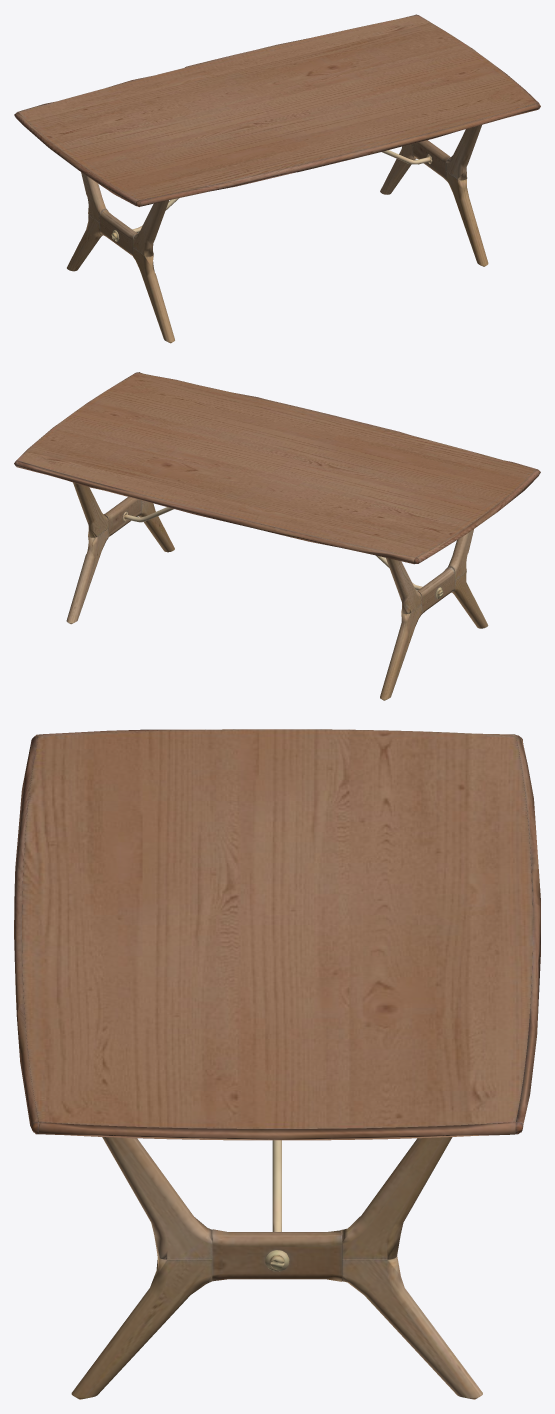
File: furniture_coffeeTable_a01.glb
3 views of the same model, one above another, from view 1: azimuth 30°, elevation 25°; view 2: azimuth 150°, elevation 25°; view 3: azimuth 270°, elevation 25° (orthographic). The views are drawn at different scales.
Visible parts, largest first — view 1: sm_furniture_coffeeTable_a01_01; view 2: sm_furniture_coffeeTable_a01_01; view 3: sm_furniture_coffeeTable_a01_01.
Boxes of the visible parts, x1=… form: sm_furniture_coffeeTable_a01_01: x1=14, y1=14, x2=540, y2=343; sm_furniture_coffeeTable_a01_01: x1=14, y1=372, x2=540, y2=700; sm_furniture_coffeeTable_a01_01: x1=14, y1=729, x2=540, y2=1399.
Size of the model in its own units: 1.33 by 0.4874 by 0.7282.
2 materials, 2 textured.
